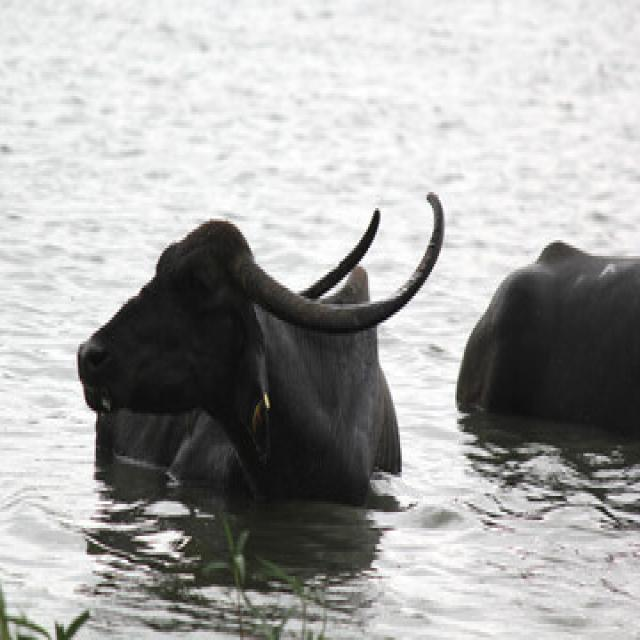Buffalo: (71, 189, 447, 495)
